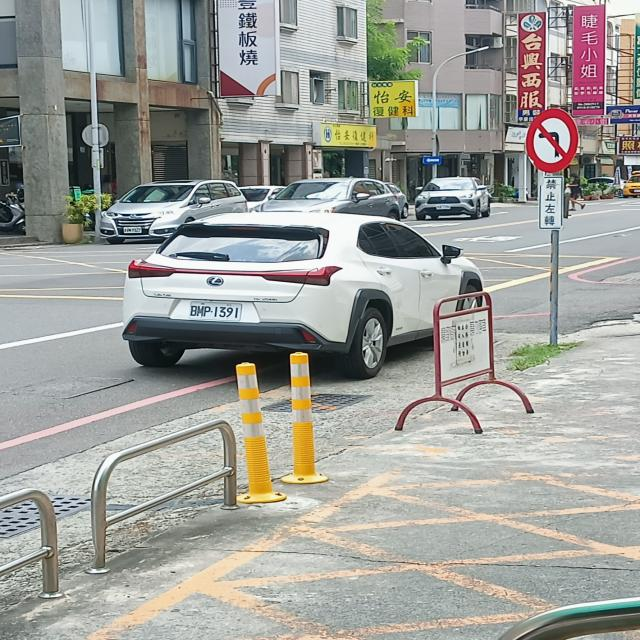license-plate: (186, 298, 247, 324)
